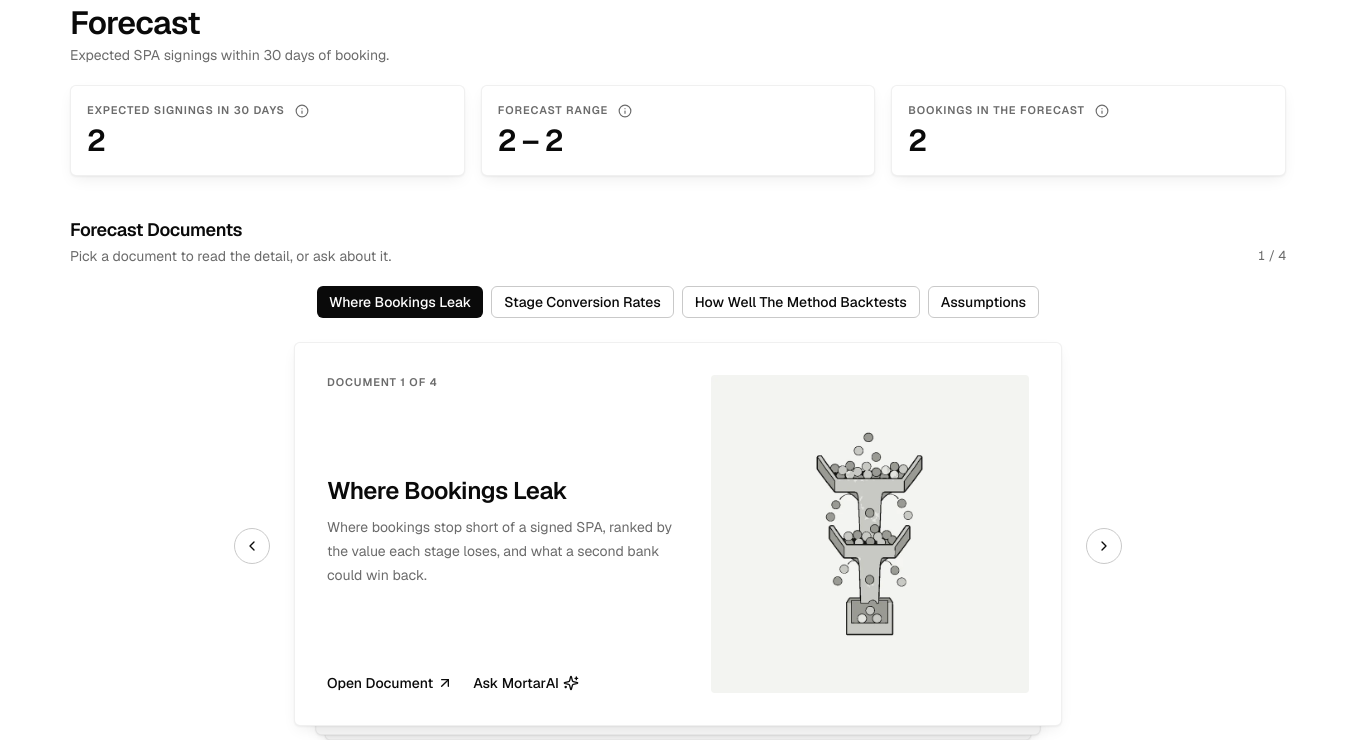
Scenario: ForecastPage › moves through the stack with its buttons and the arrow keys
Expected: the text "Document 1 Of 4" is shown, [327, 375, 438, 389]
Click the button named "Next document" at (1104, 546), box [1086, 528, 1122, 564]
(page scrolled)
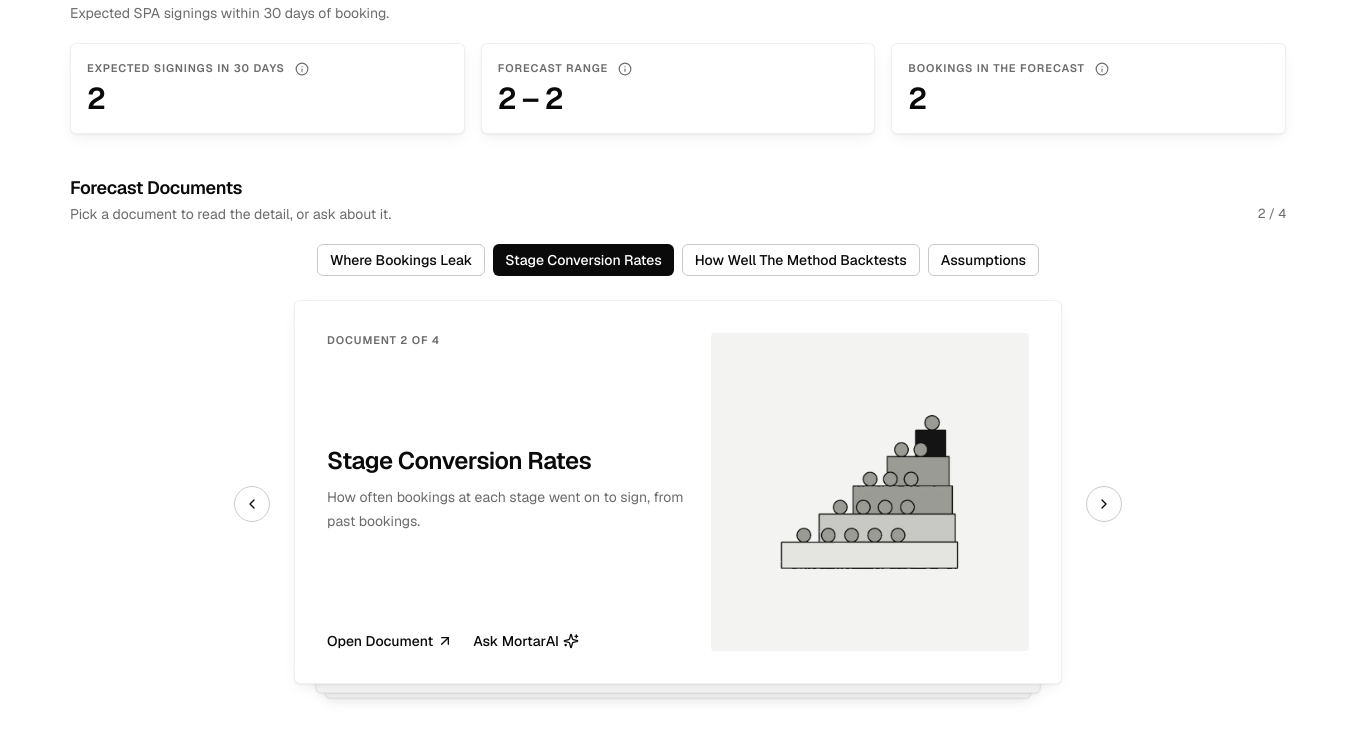
Expected: the text "Document 2 Of 4" is shown, [327, 333, 440, 347]
Press ArrowLeft in the element named "Forecast documents", box [294, 300, 1062, 708]
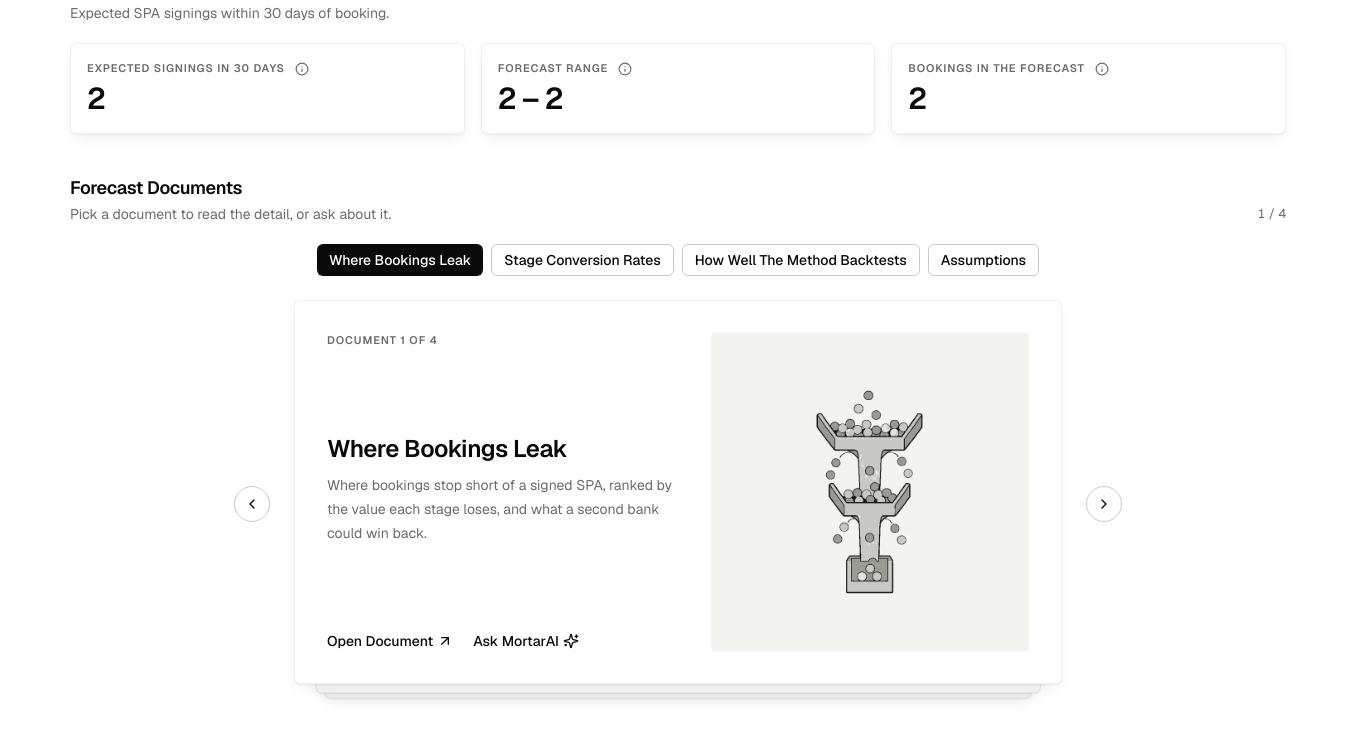
Press ArrowLeft in the element named "Forecast documents", box [294, 300, 1062, 708]
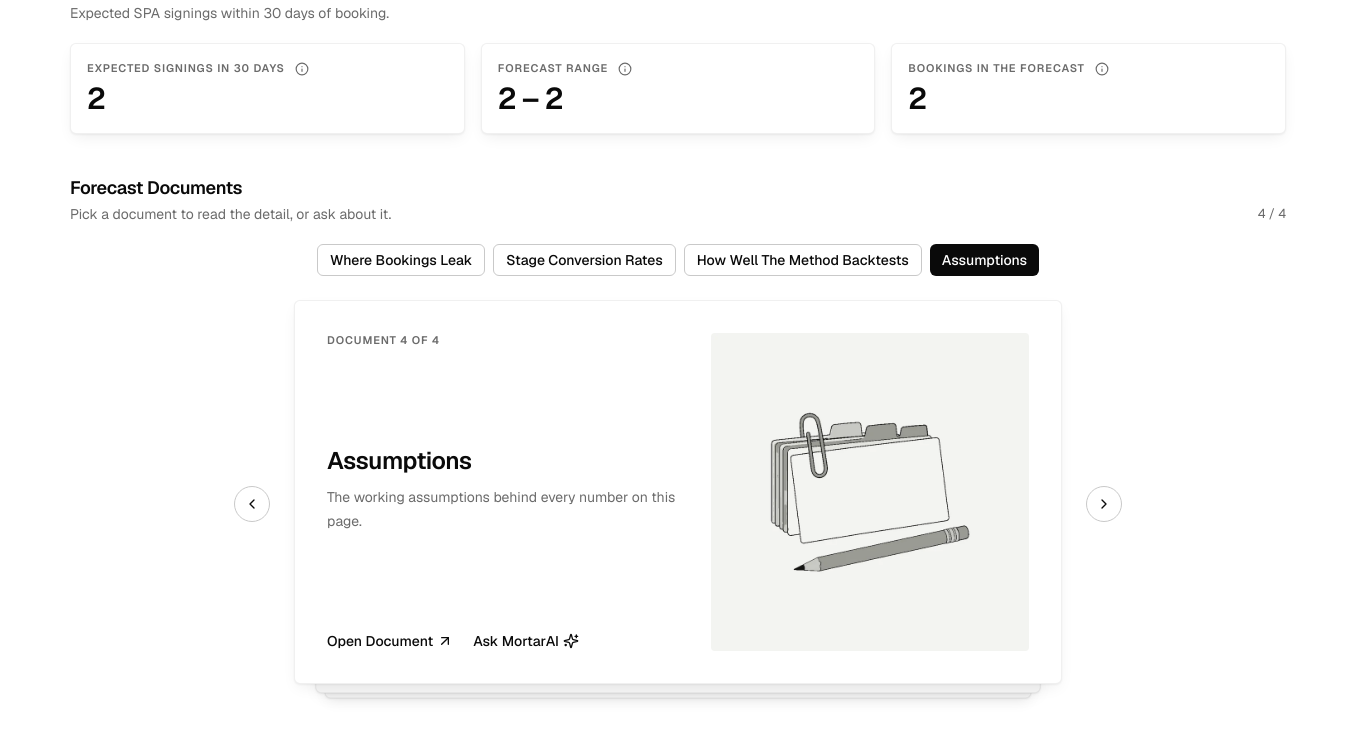
Expected: the text "Document 4 Of 4" is shown, [327, 333, 440, 347]
